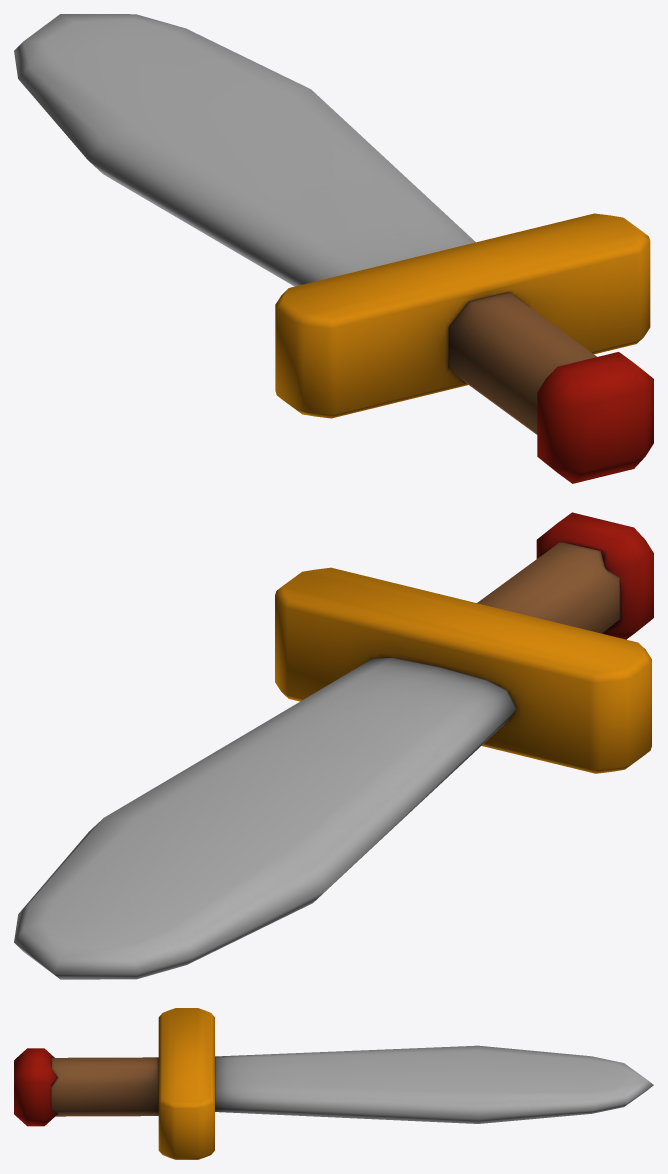
Rendered from sword.fbx.
The picture shows the model from 3 angles, top to bottom: view 1: azimuth 30°, elevation 25°; view 2: azimuth 150°, elevation 25°; view 3: azimuth 270°, elevation 25°; orthographic projection. The views are drawn at different scales.
Parts seen in each view (by area): view 1: Sword; view 2: Sword; view 3: Sword.
Boxes of the visible parts, x1=… form: Sword: x1=14, y1=14, x2=653, y2=483; Sword: x1=14, y1=512, x2=653, y2=979; Sword: x1=14, y1=1008, x2=653, y2=1159.
Bounding box in the file's own units: 20.82 × 6.09 × 57.14.
1 material, 1 textured.
